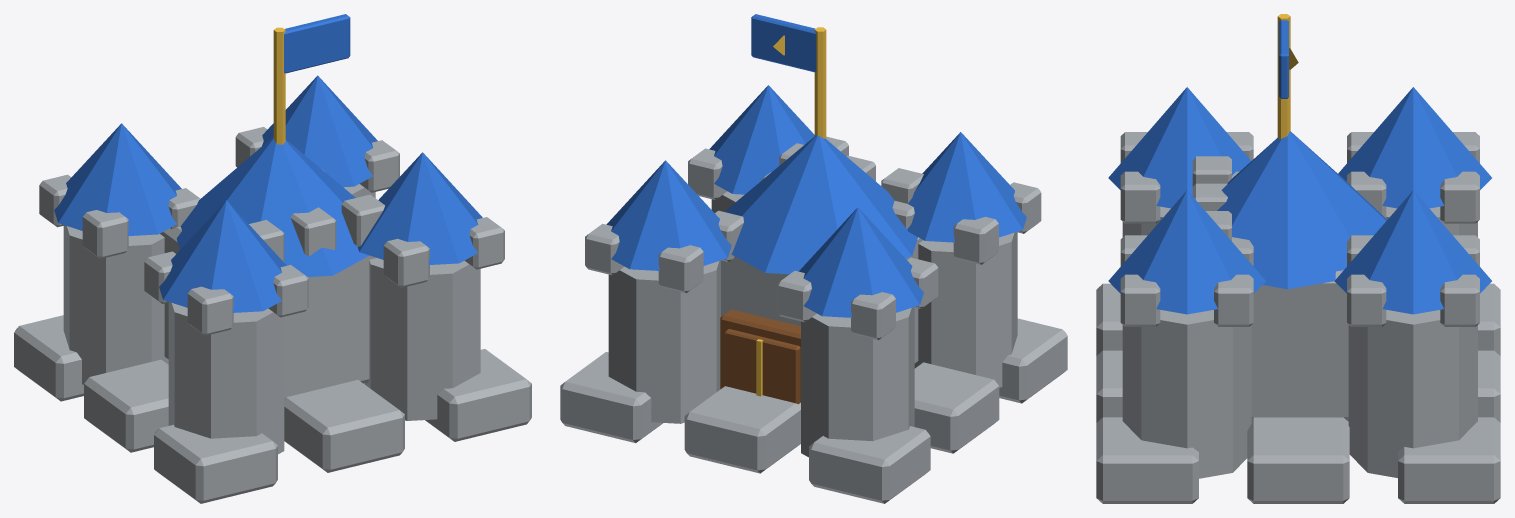
File: castle.glb
The picture shows the model from 3 angles, left to right: view 1: azimuth 30°, elevation 25°; view 2: azimuth 150°, elevation 25°; view 3: azimuth 270°, elevation 25°; orthographic projection. The views are drawn at different scales.
Visible parts, largest first — view 1: Tower stone.003, Tower stone.002, Tower stone, Keep blue roof, Keep body, Stone block.005, Blue roof.002, Blue roof, Blue roof.003, Stone block.002, Blue roof.001, Stone block.001 (+17 smaller); view 2: Tower stone.001, Keep blue roof, Tower stone, Tower stone.002, Blue roof.001, Blue roof, Stone block.003, Blue roof.002, Stone block, Stone block.001, Blue roof.003, Stone block.006 (+16 smaller); view 3: Tower stone.001, Tower stone.003, Keep blue roof, Keep body, Blue roof.001, Blue roof.003, Stone block.007, Blue roof, Stone block.008, Blue roof.002, Stone block.006, Tower crenel.011 (+18 smaller).
Part boxes in pixels (x1,y1,x2,y2): Tower stone.003: (364,258,480,420); Tower stone.002: (168,302,284,454); Tower stone: (63,225,168,384); Keep blue roof: (176,137,369,276); Keep body: (160,226,376,398); Stone block.005: (284,380,404,472); Blue roof.002: (159,200,286,312); Blue roof: (54,123,181,236); Blue roof.003: (357,152,482,264); Stone block.002: (154,424,277,503); Blue roof.001: (262,75,377,187); Stone block.001: (84,359,168,452); Tower stone.001: (608,260,720,423); Keep blue roof: (725,135,917,274); Tower stone: (801,307,914,457); Tower stone.002: (914,232,1017,387); Blue roof.001: (606,160,731,270); Blue roof: (799,207,923,317); Stone block.003: (684,386,800,473); Blue roof.002: (907,132,1026,242); Stone block: (809,426,930,503); Stone block.001: (914,362,999,453); Blue roof.003: (709,85,814,194); Stone block.006: (560,352,662,443); Tower stone.001: (1348,310,1477,477); Tower stone.003: (1122,310,1251,478); Keep blue roof: (1217,131,1386,289); Keep body: (1251,270,1348,421); Blue roof.001: (1334,190,1491,314); Blue roof.003: (1108,190,1265,314); Stone block.007: (1247,417,1349,503); Blue roof: (1338,87,1491,208); Stone block.008: (1096,417,1198,503); Blue roof.002: (1108,87,1251,208); Stone block.006: (1398,417,1500,503); Tower crenel.011: (1120,171,1160,223).
Bounding box in the file's own units: 1.17 × 1.23 × 1.13.
